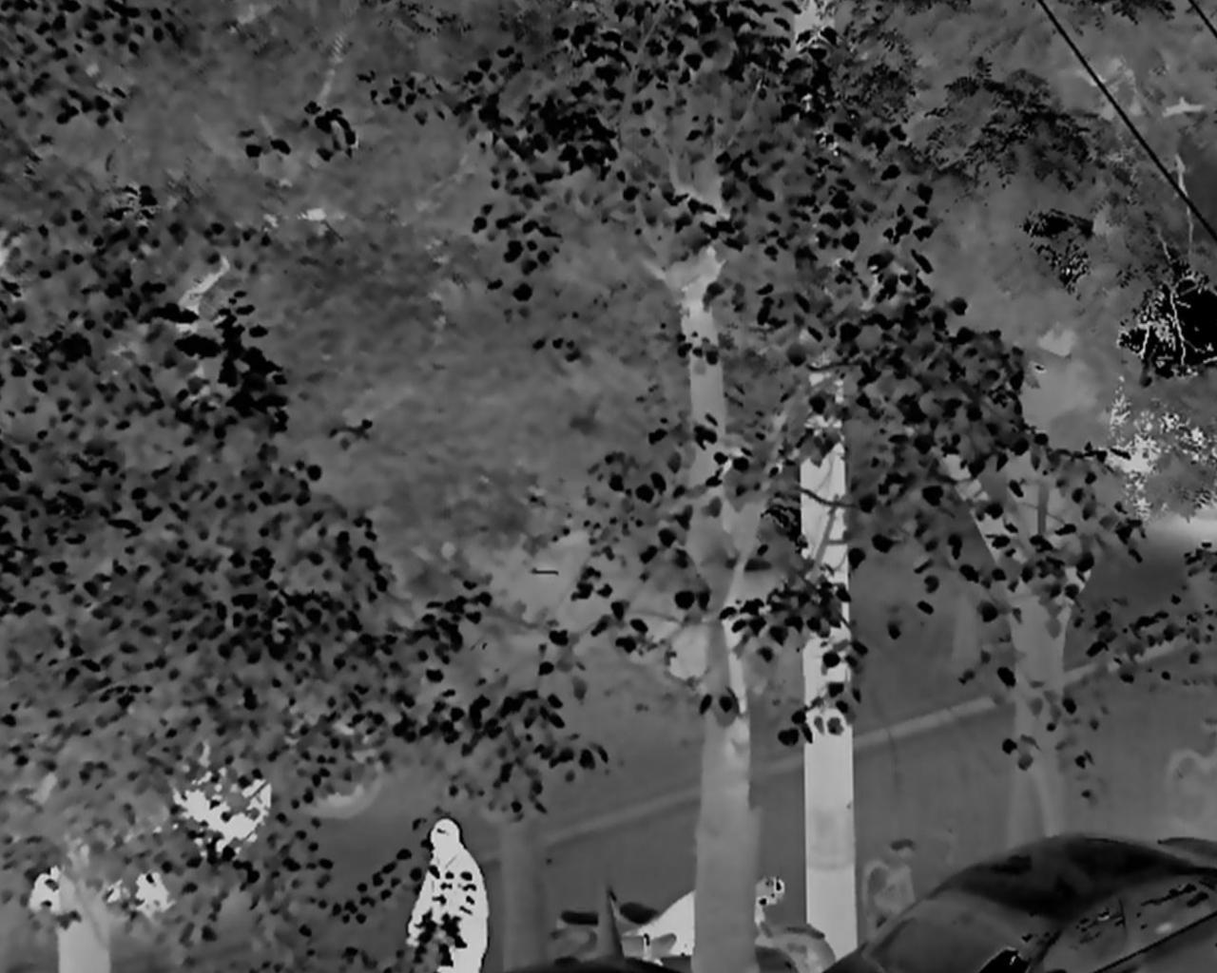person: (405, 819, 492, 973)
